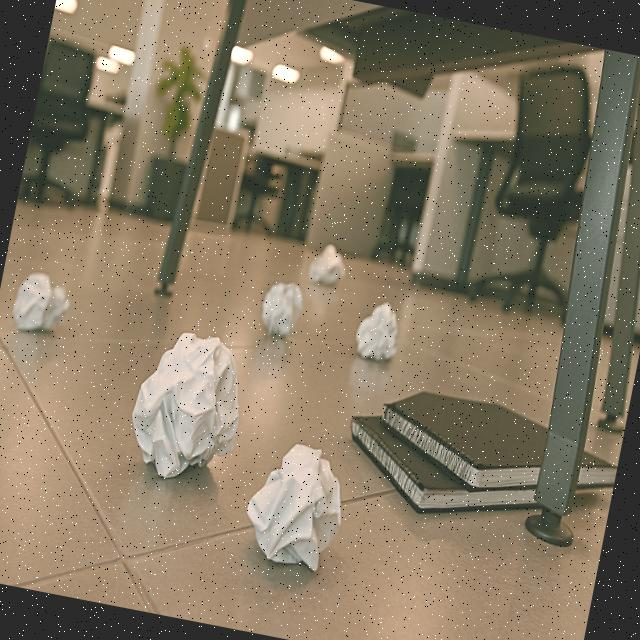paper: (118, 322, 258, 493), (234, 435, 354, 579), (8, 270, 74, 339), (353, 296, 406, 364), (258, 276, 308, 344), (306, 237, 352, 290)
